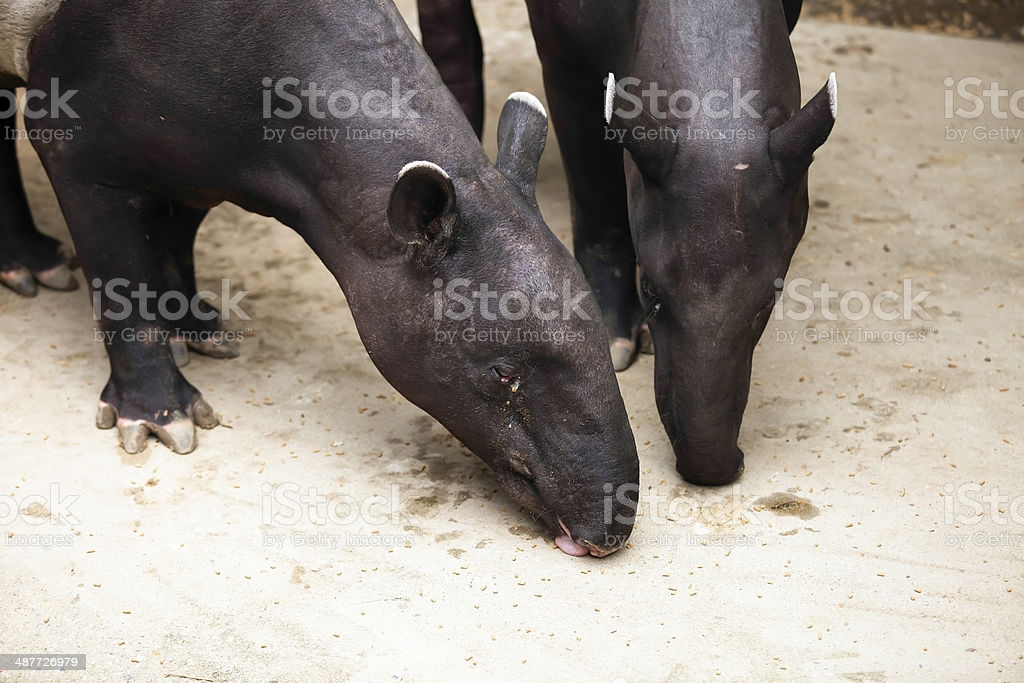Anta: (10, 8, 647, 577), (514, 3, 850, 502)
